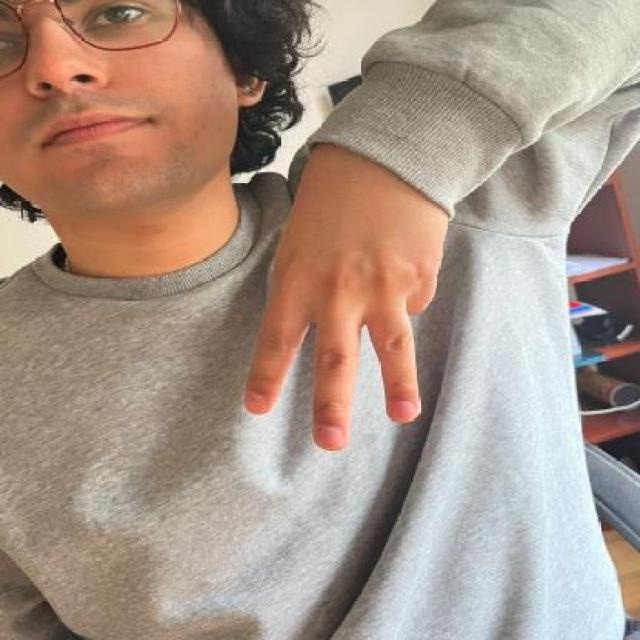M: (240, 124, 458, 456)
